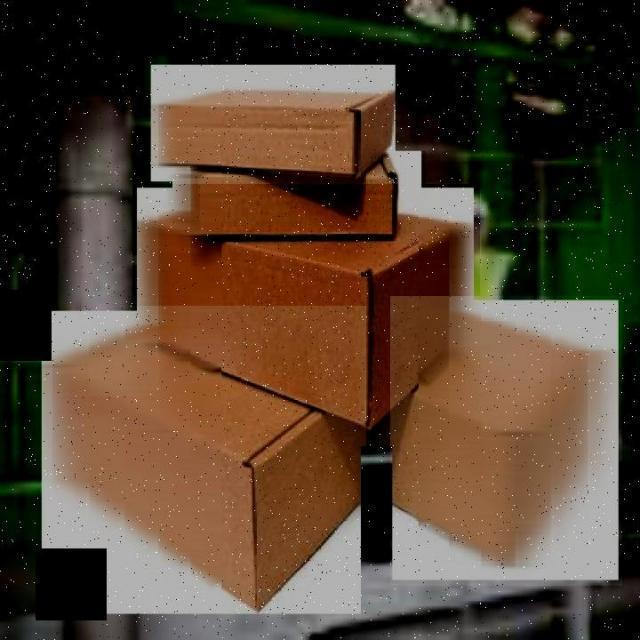box: (36, 306, 366, 620), (132, 184, 480, 452), (390, 296, 622, 586), (170, 150, 426, 271), (147, 64, 400, 184)
